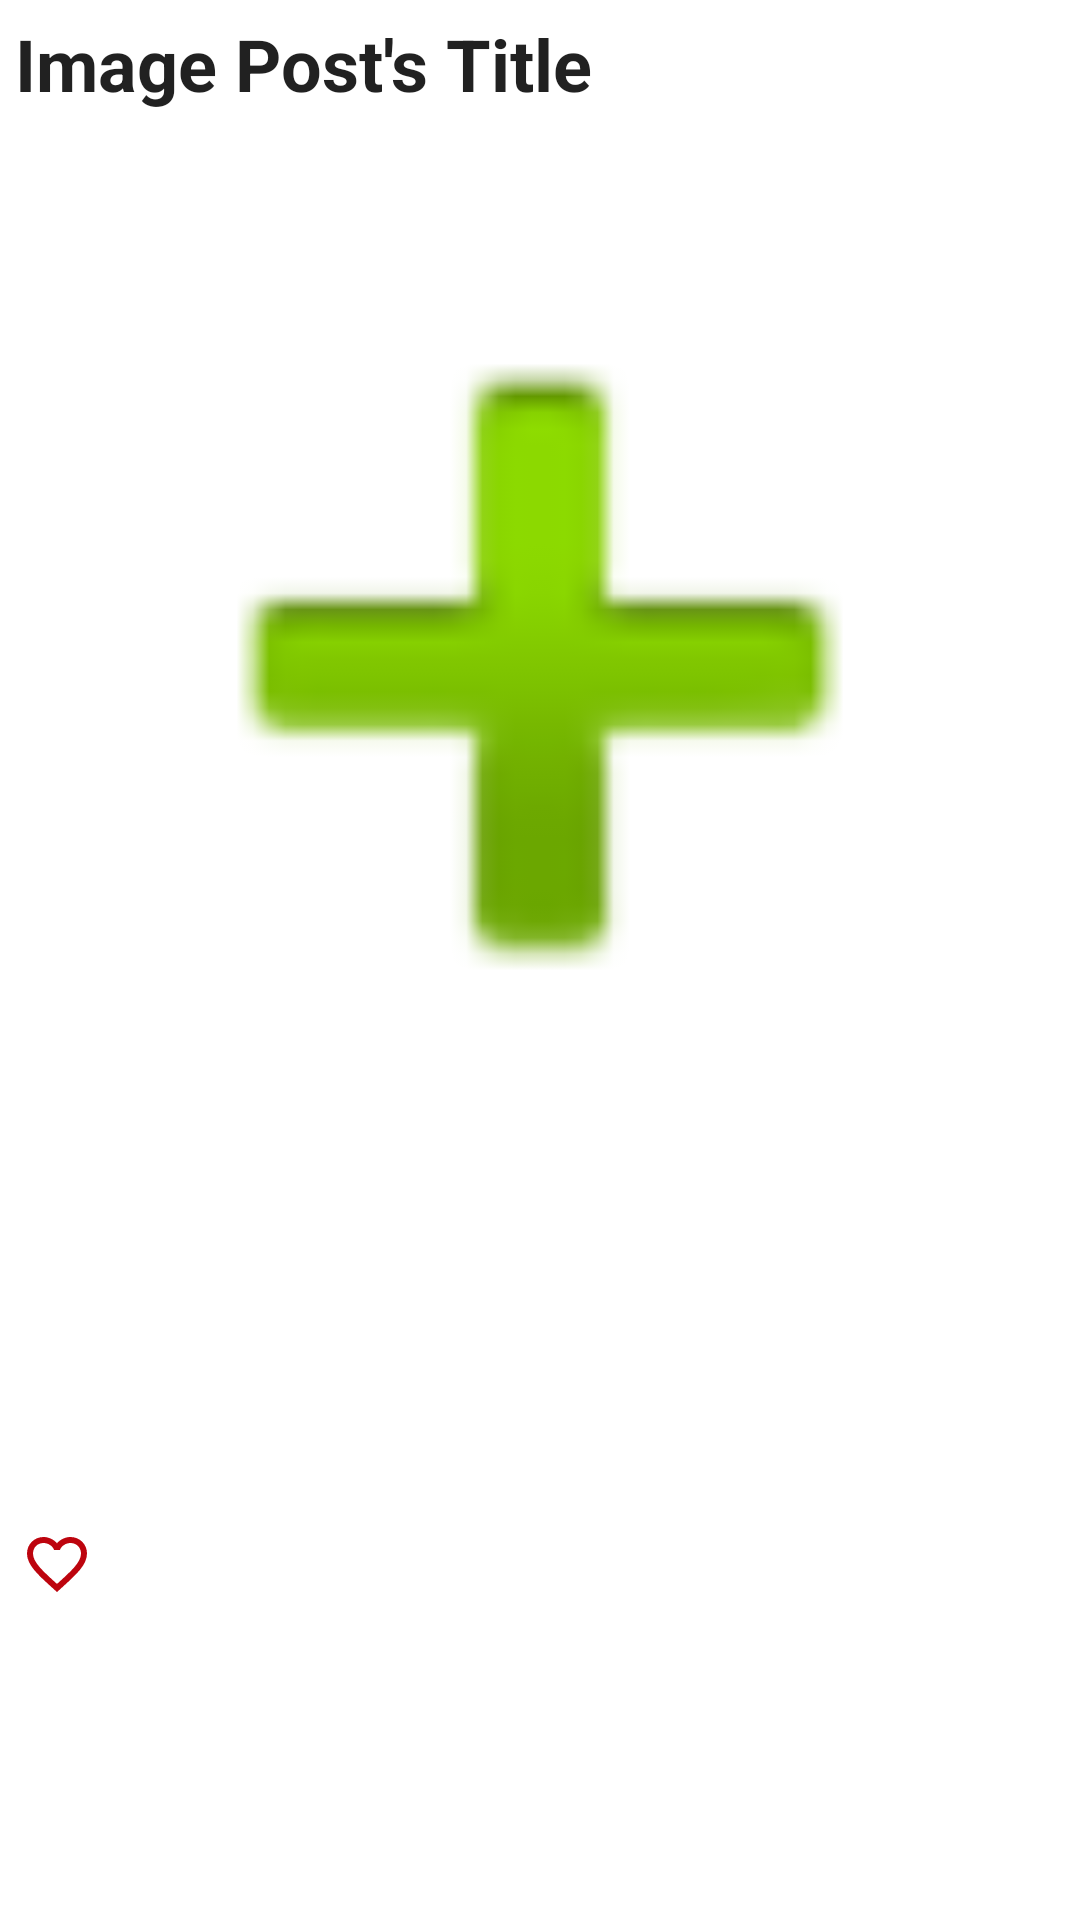

Screen size 1080×1920. Icon name, then its box in pixels as box=[x1, y1, x2, y2]:
unpressed like: box=[27, 1537, 87, 1592]
